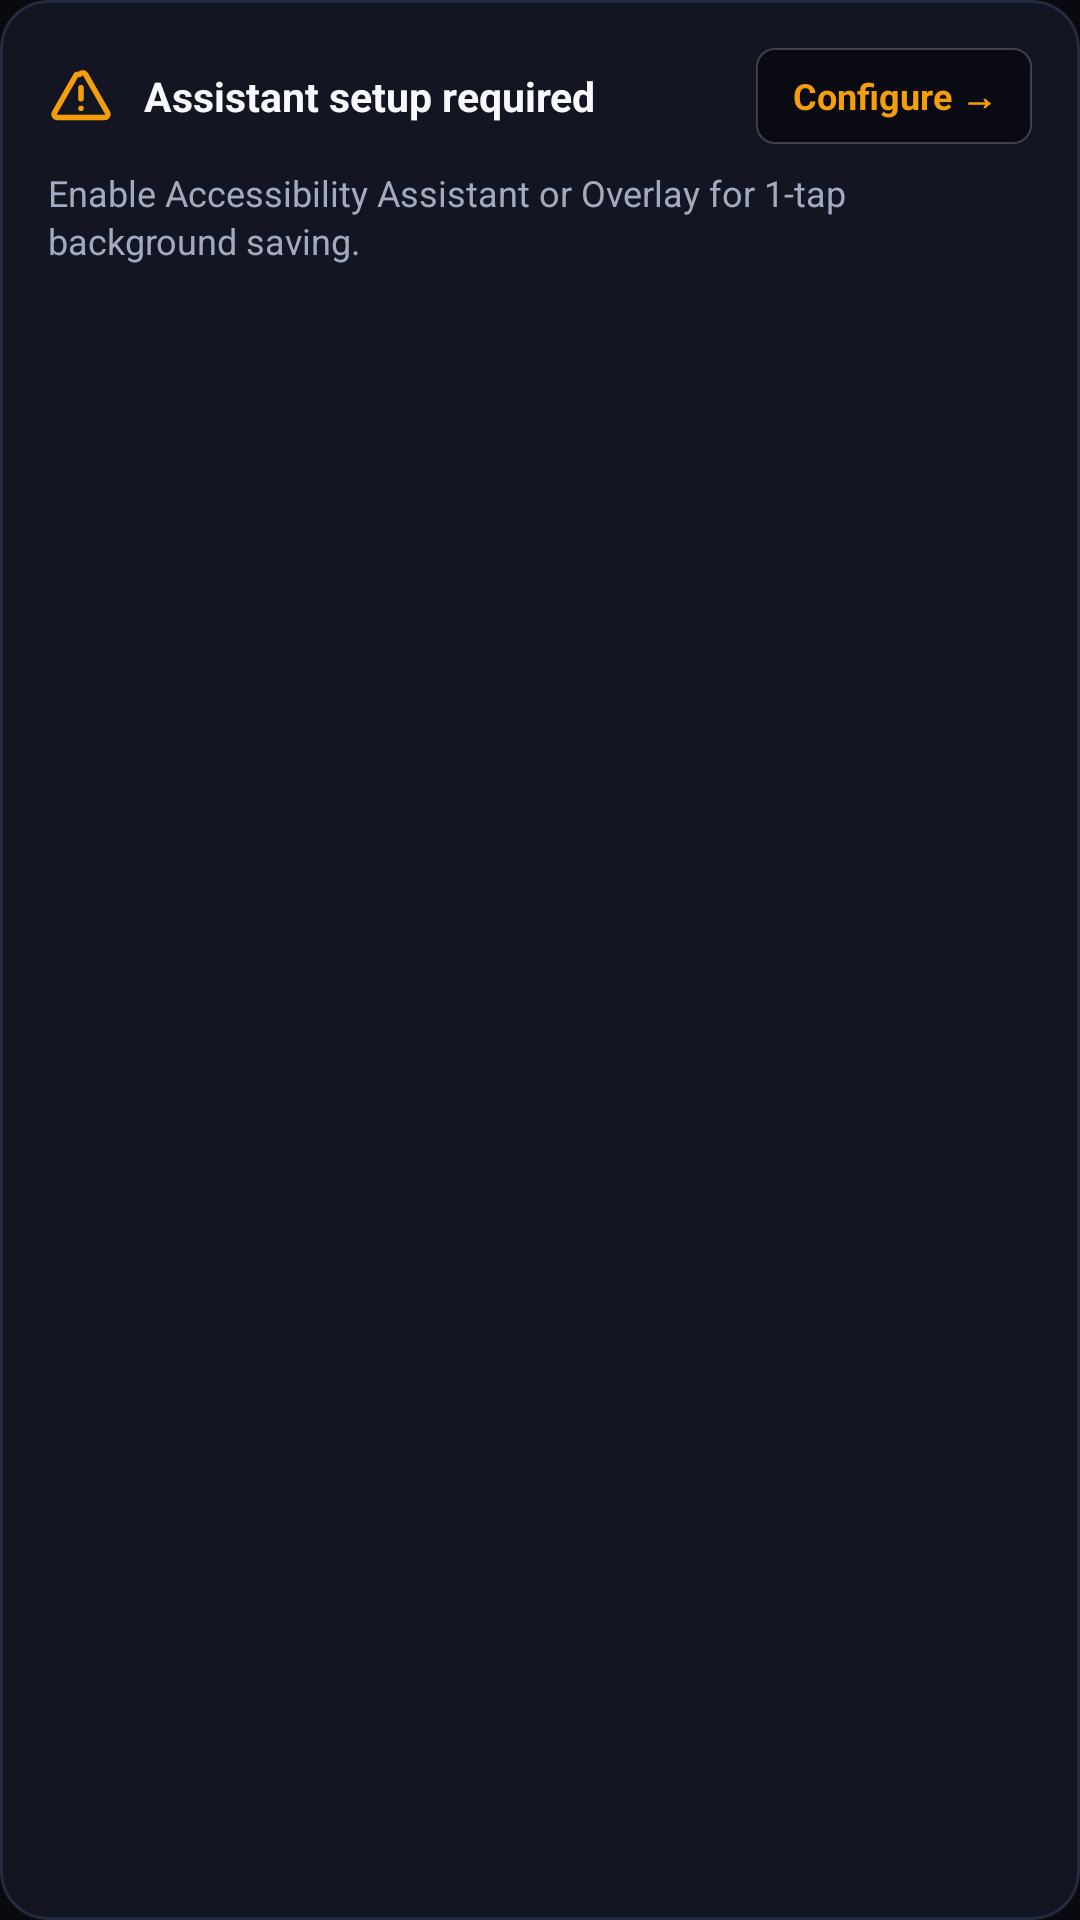

Icons on this 1080 × 1920 Android screen, each with the point to tap as (x=x, y=y):
Permission Warning: (x=81, y=95)
